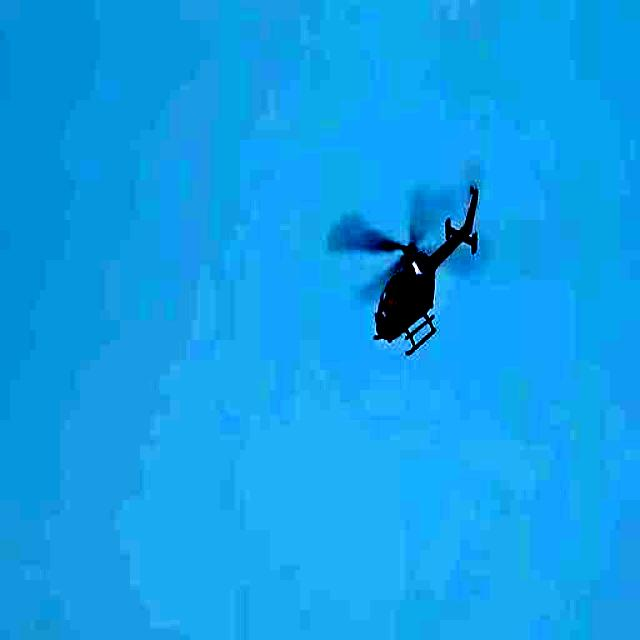drone: (359, 170, 490, 381)
